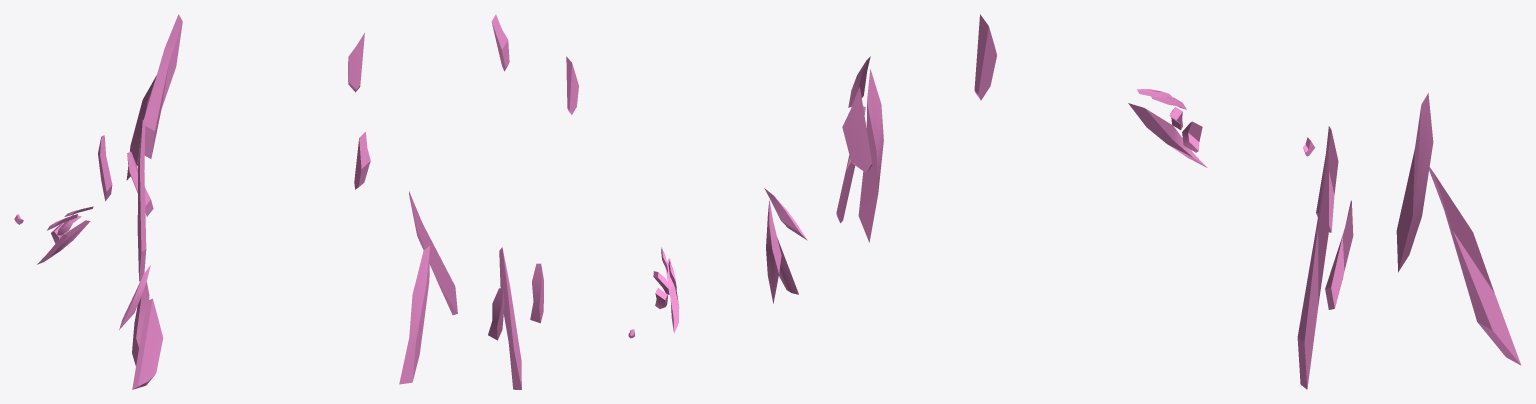
The model's file is FloatingRocks.fbx.
The picture shows the model from 3 angles, left to right: view 1: azimuth 30°, elevation 25°; view 2: azimuth 150°, elevation 25°; view 3: azimuth 270°, elevation 25°; orthographic projection. The views are drawn at different scales.
Parts seen in each view (by area): view 1: FloatingRocks_8, FloatingRocks_21, FloatingRocks_10, FloatingRocks_19, FloatingRocks_9, FloatingRocks_20, FloatingRocks_18, FloatingRocks_11, FloatingRocks_16, FloatingRocks_22, FloatingRocks_12; view 2: FloatingRocks_9, FloatingRocks_10, FloatingRocks_8, FloatingRocks_20, FloatingRocks_11, FloatingRocks_12, FloatingRocks_18, FloatingRocks_19, FloatingRocks_22, FloatingRocks_16, FloatingRocks_21; view 3: FloatingRocks_9, FloatingRocks_8, FloatingRocks_10, FloatingRocks_20, FloatingRocks_18, FloatingRocks_19, FloatingRocks_12, FloatingRocks_16, FloatingRocks_11.
Part boxes in pixels (x1,y1,x2,y2): FloatingRocks_8: (139,14,182,158); FloatingRocks_21: (132,298,163,389); FloatingRocks_10: (137,119,146,281); FloatingRocks_19: (348,33,364,92); FloatingRocks_9: (126,75,156,180); FloatingRocks_20: (132,282,149,365); FloatingRocks_18: (354,132,370,189); FloatingRocks_11: (98,135,112,201); FloatingRocks_16: (37,220,90,264); FloatingRocks_22: (119,265,150,329); FloatingRocks_12: (127,151,153,216); FloatingRocks_9: (399,246,430,384); FloatingRocks_10: (499,247,521,389); FloatingRocks_8: (409,191,457,315); FloatingRocks_20: (766,199,781,303); FloatingRocks_11: (530,263,543,323); FloatingRocks_12: (488,288,504,340); FloatingRocks_18: (566,56,578,114); FloatingRocks_19: (491,14,509,71); FloatingRocks_22: (764,188,807,240); FloatingRocks_16: (665,258,679,333); FloatingRocks_21: (777,238,798,294); FloatingRocks_9: (1429,167,1521,365); FloatingRocks_8: (1396,93,1433,272); FloatingRocks_10: (1297,147,1328,389); FloatingRocks_20: (858,69,883,242); FloatingRocks_18: (842,87,872,173); FloatingRocks_19: (974,14,996,100); FloatingRocks_12: (1325,200,1353,309); FloatingRocks_16: (1128,103,1207,167); FloatingRocks_11: (1316,126,1338,232).
Size of the model in its own units: 2479 by 3158 by 2391.
